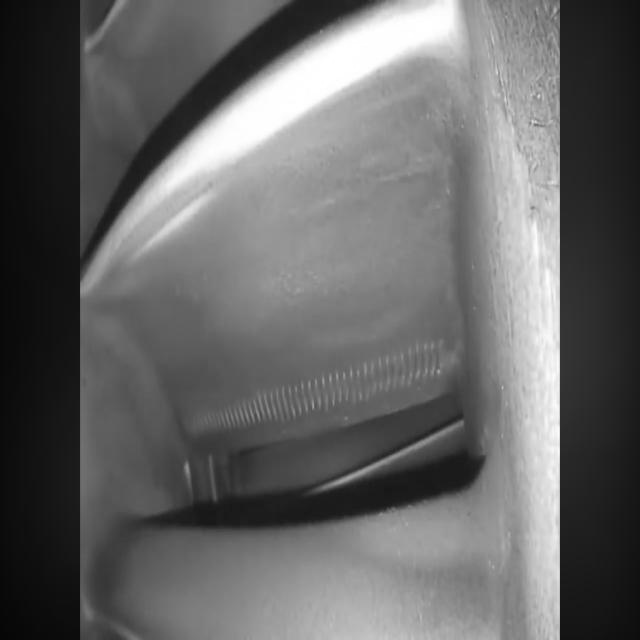crack: (82, 8, 461, 454)
